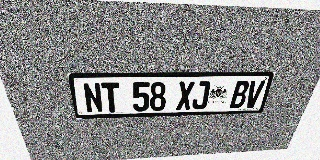5: (133, 82, 150, 112)
8: (150, 82, 167, 111)
B: (229, 81, 251, 108)
J: (191, 81, 211, 110)
N: (82, 82, 104, 113)
T: (101, 82, 121, 113)
V: (243, 80, 265, 108)
X: (176, 81, 195, 110)
